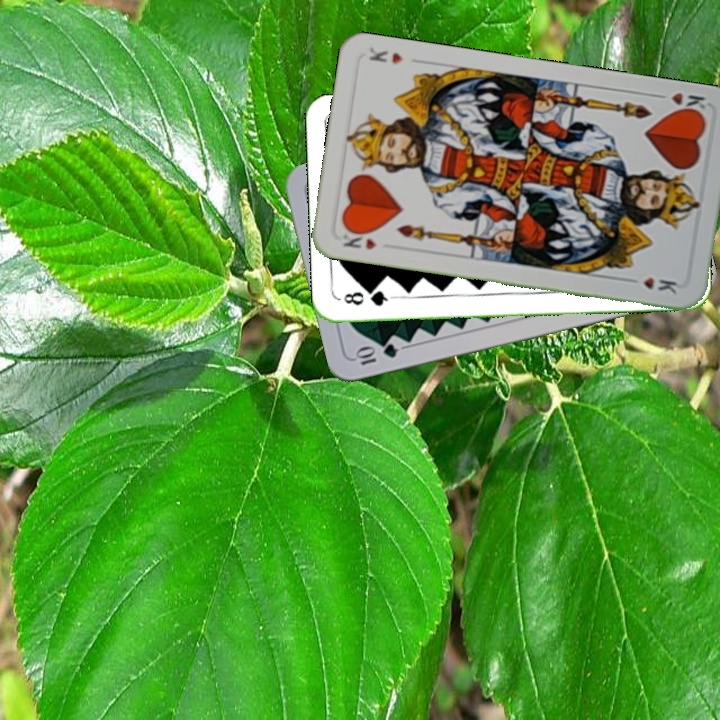G10: (351, 340, 400, 368)
G8: (340, 286, 396, 309)
HK: (651, 88, 709, 118), (339, 225, 379, 252)
